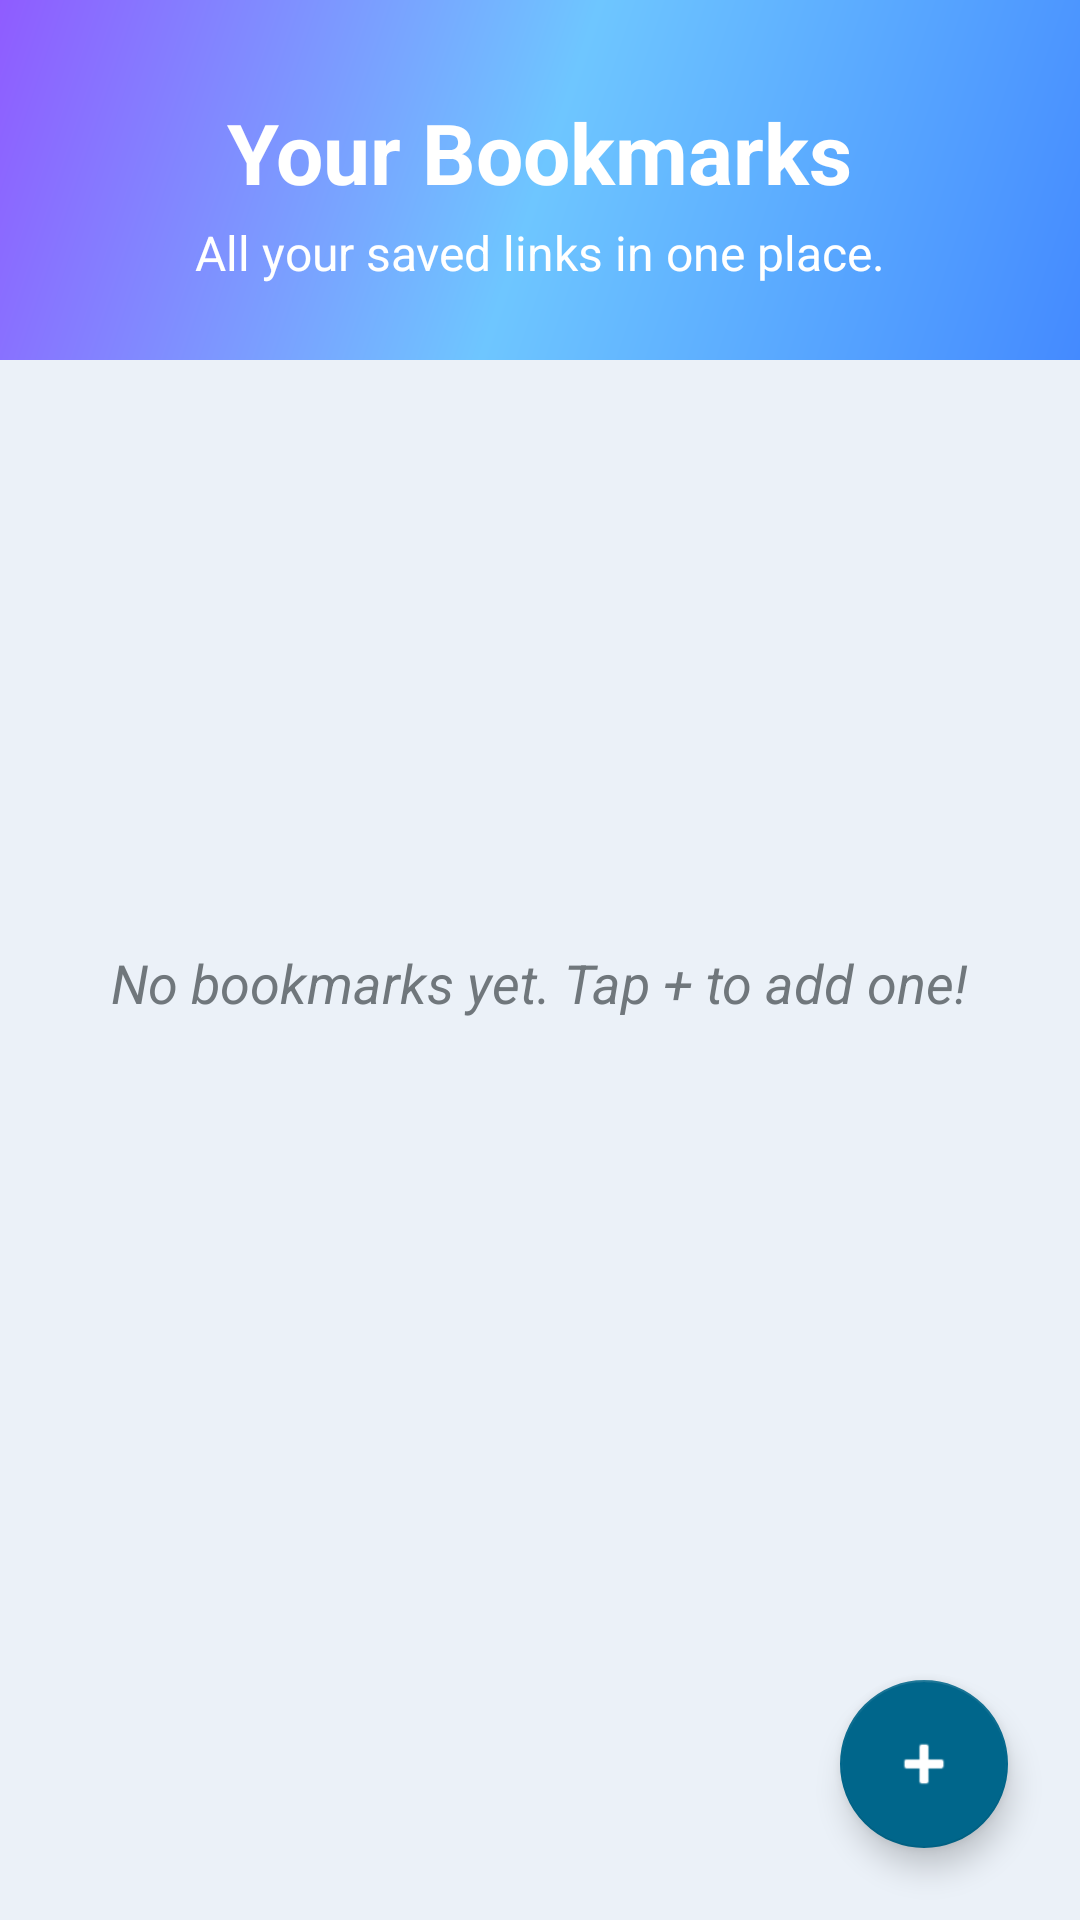

Icons on this 1080 × 1920 Android screen, each with its box as (x1, y1, x2, y2):
Add new bookmark: (840, 1680, 1008, 1848)
